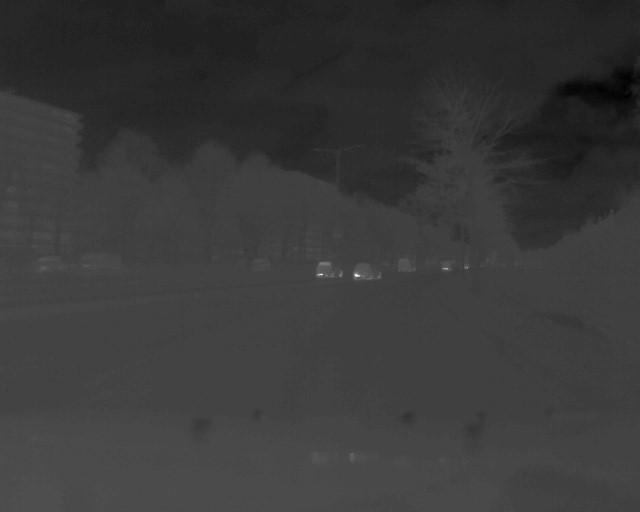car: (312, 258, 344, 280), (354, 261, 385, 282), (396, 256, 418, 276)
